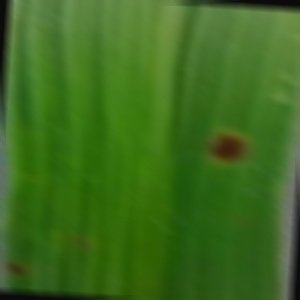Bacterial_Leaf_Blight: (196, 120, 260, 173), (2, 255, 27, 280), (69, 234, 94, 253)
